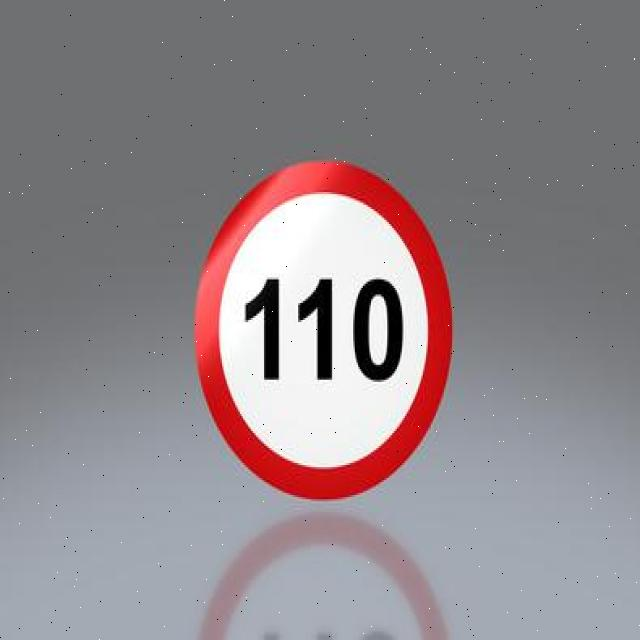speed limit 110: (195, 161, 451, 502)
